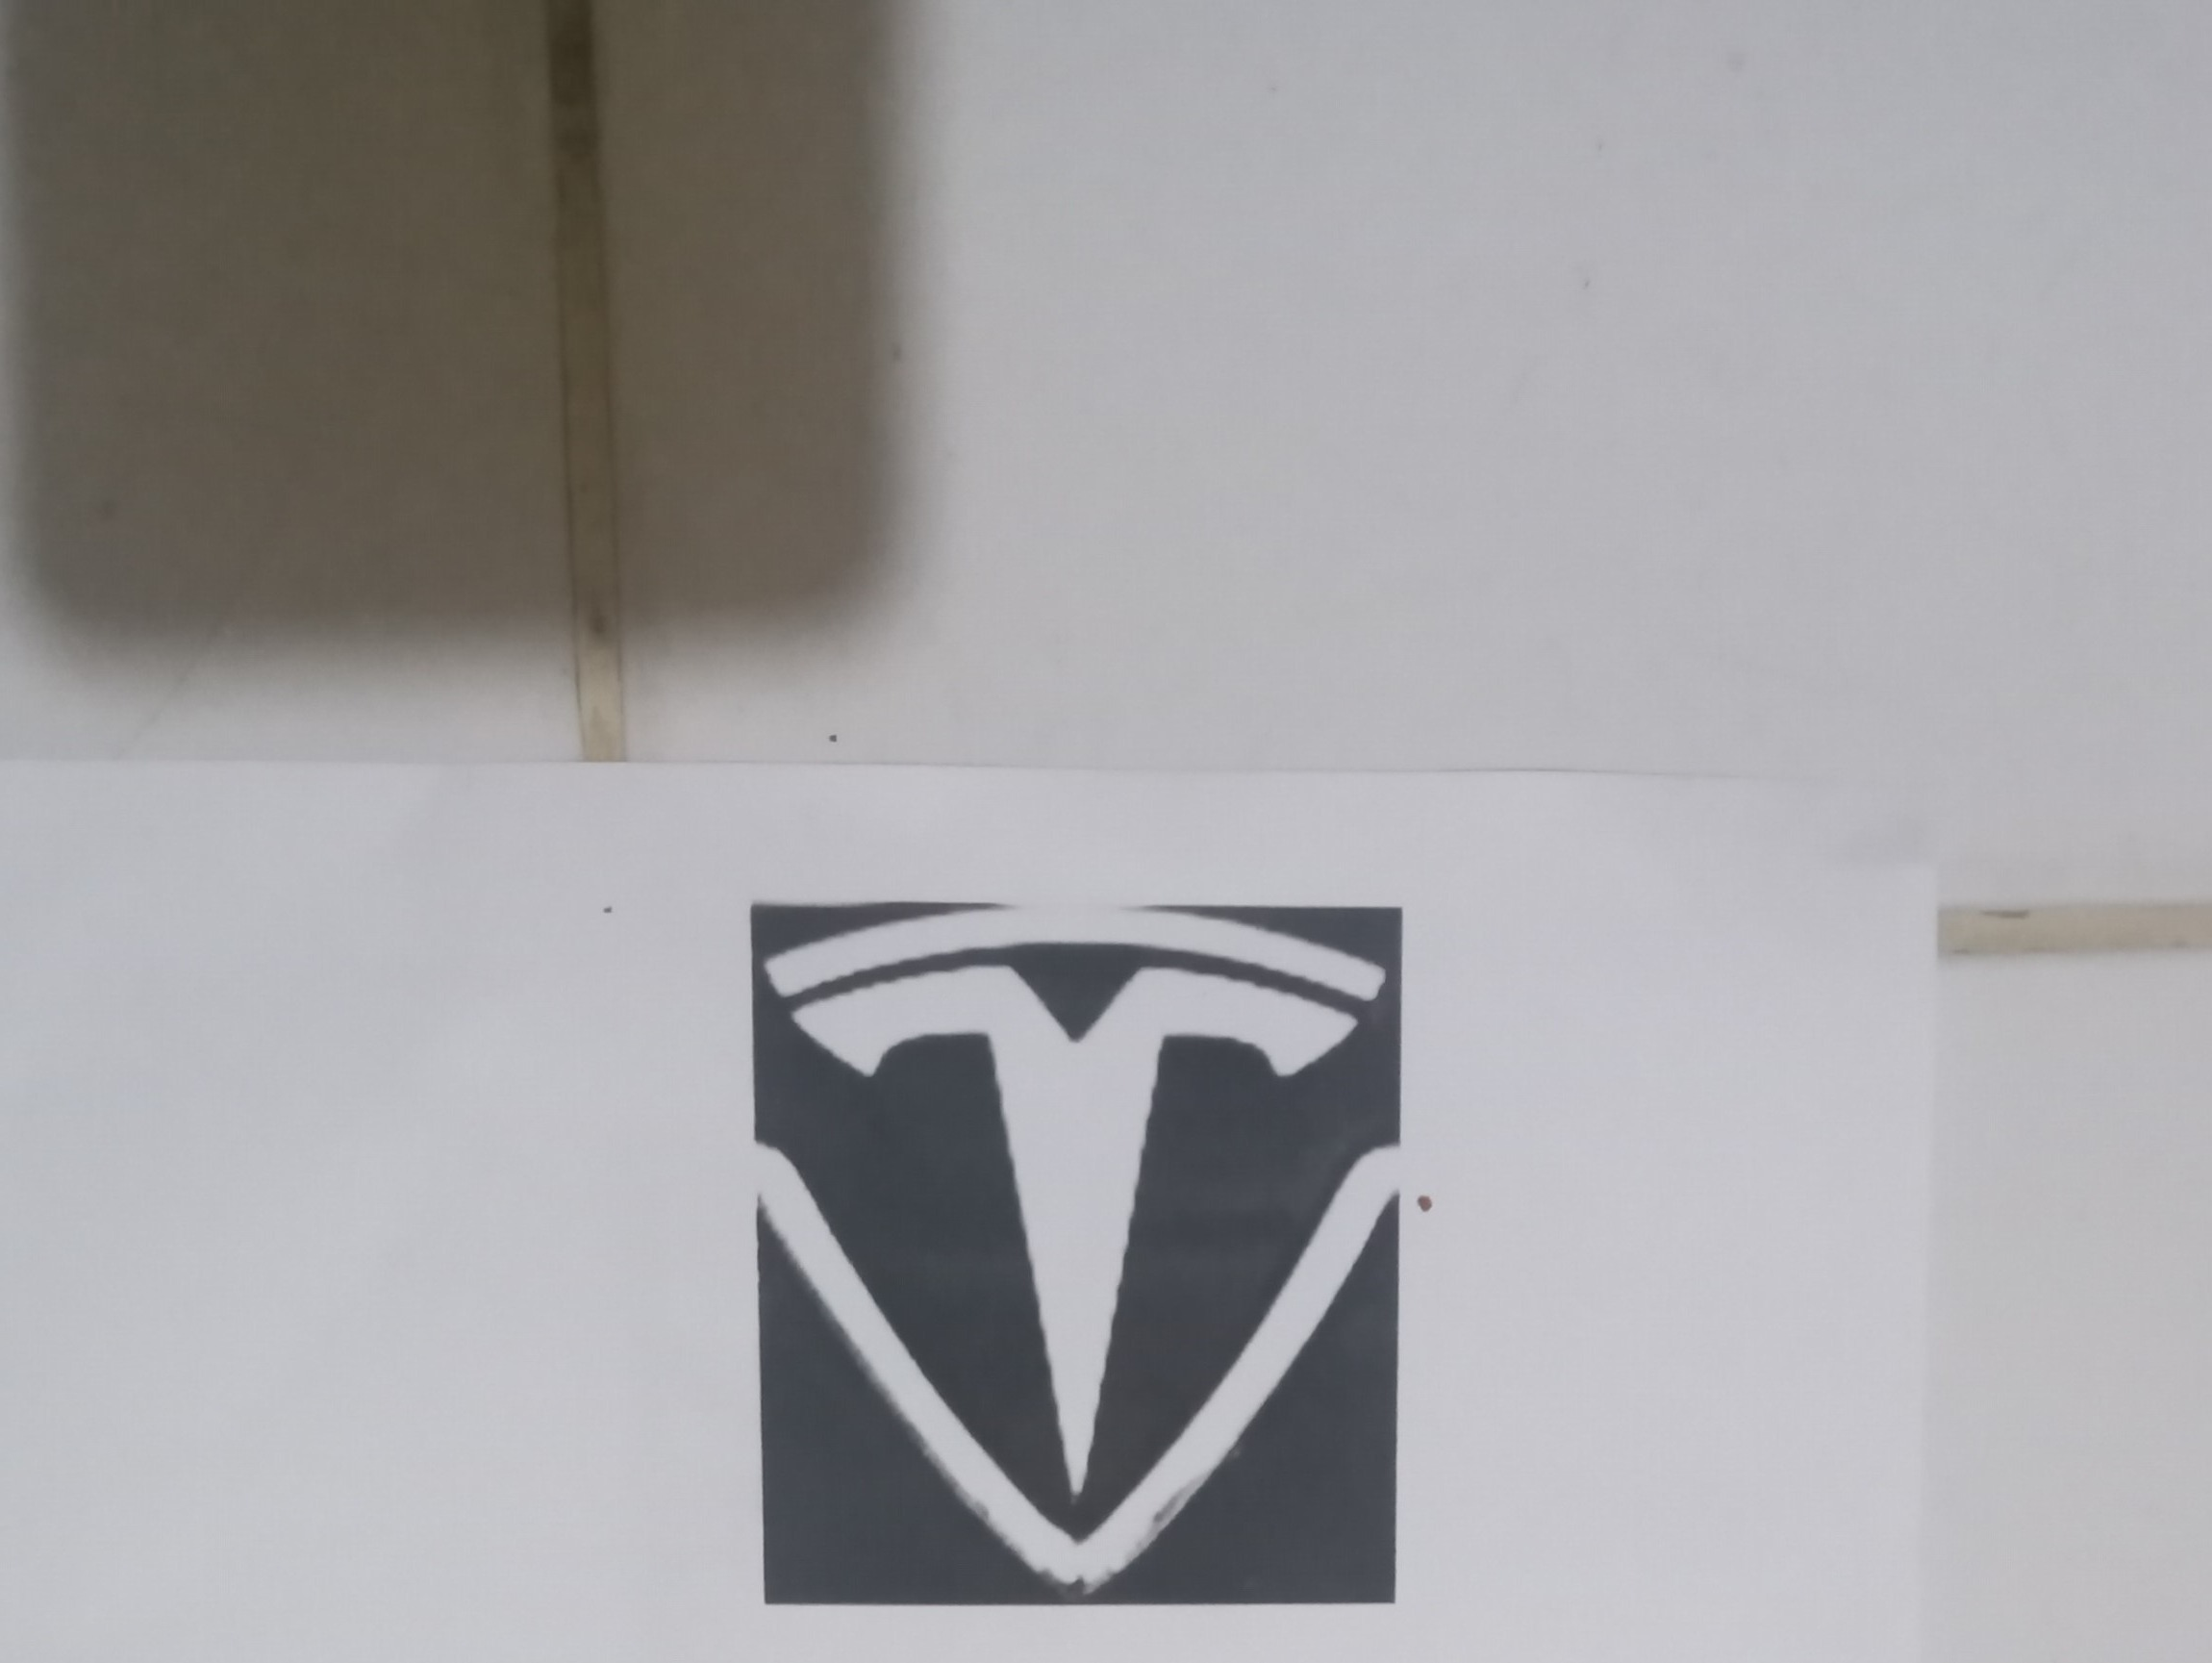Tesla: (745, 905, 1384, 1602)
